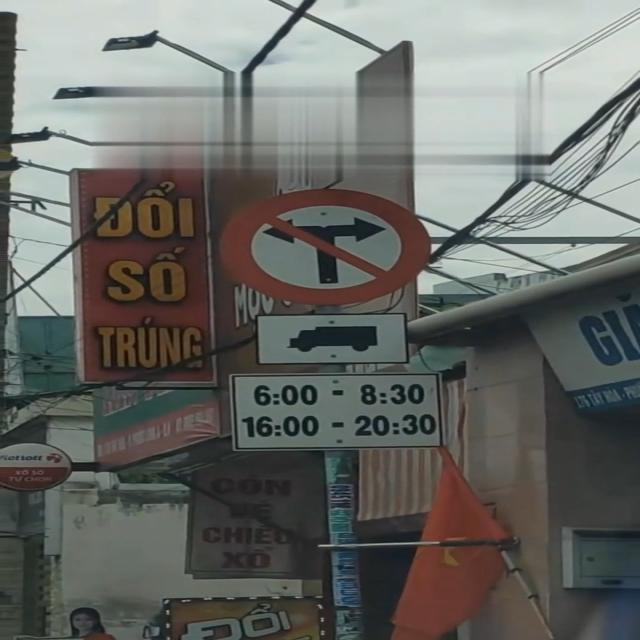137-cam-re-trai-va-re-phai: (228, 182, 422, 304)
